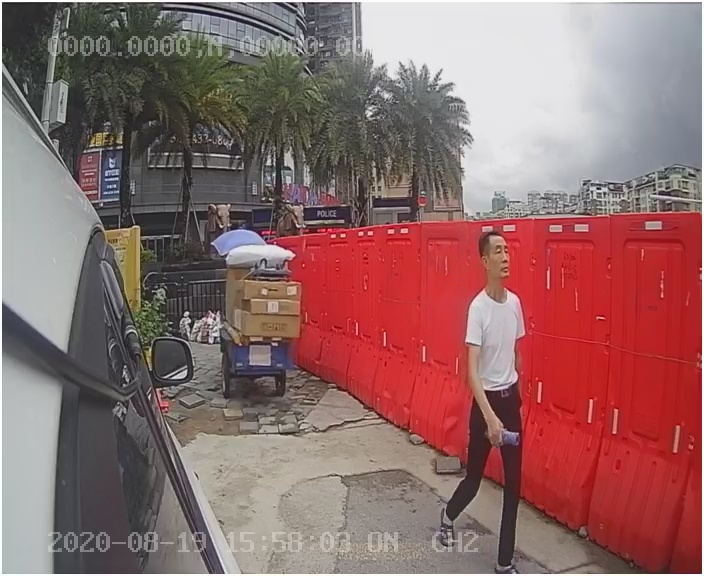person: (438, 231, 553, 539)
